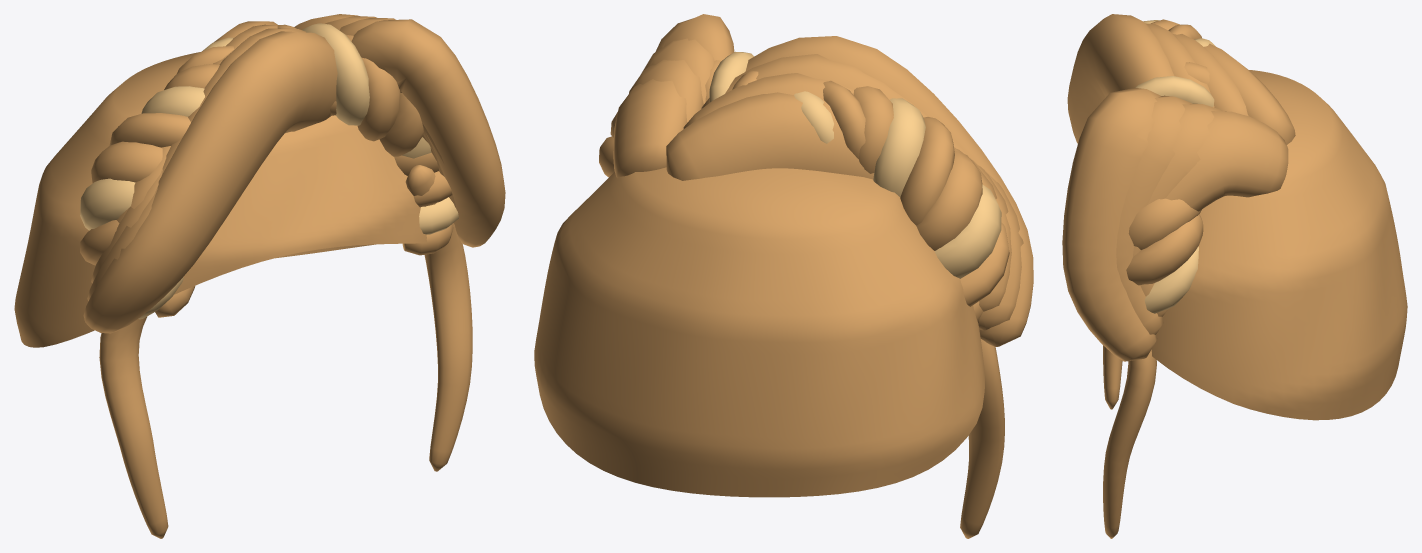
Rendered from studio_crown_braid_default.glb.
The picture shows the model from 3 angles, left to right: view 1: azimuth 30°, elevation 25°; view 2: azimuth 150°, elevation 25°; view 3: azimuth 270°, elevation 25°; orthographic projection. The views are drawn at different scales.
Visible parts, largest first — view 1: crown_braid; view 2: crown_braid; view 3: crown_braid.
Boxes of the visible parts, box(x1,y1,x2,y2) form: crown_braid: box(14, 14, 505, 538); crown_braid: box(534, 14, 1033, 538); crown_braid: box(1062, 14, 1407, 538).
Size of the model in its own units: 0.4904 by 0.5363 by 0.3764.
